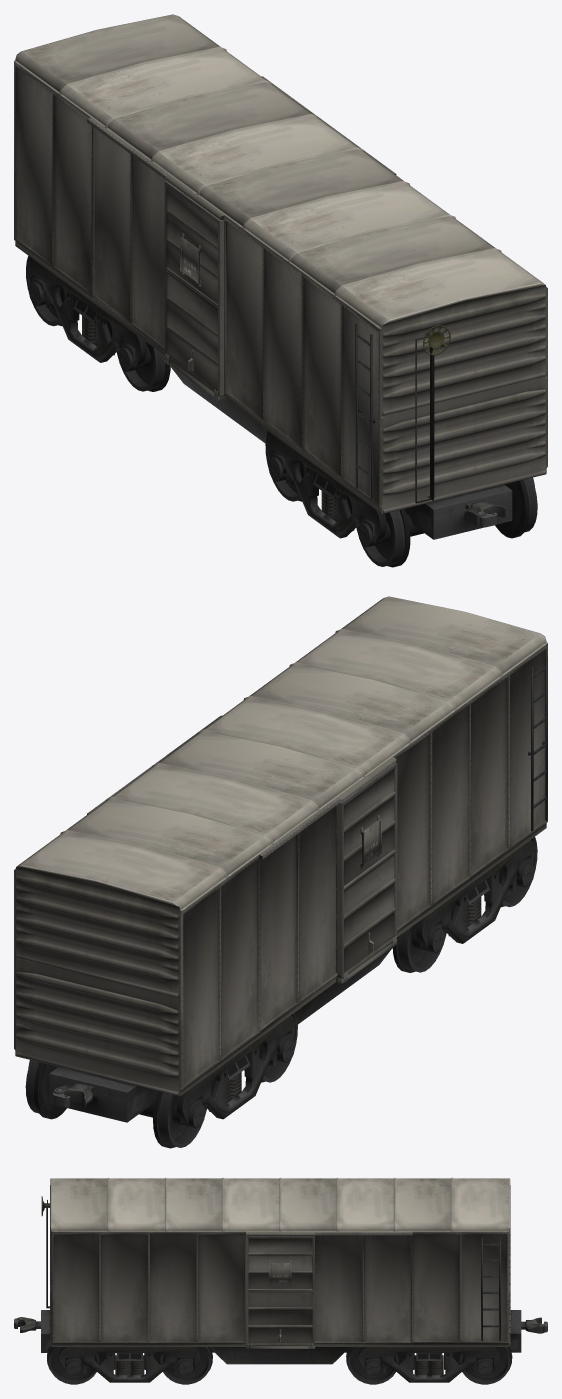
3 renders of one model, top to bottom at view 1: azimuth 30°, elevation 25°; view 2: azimuth 150°, elevation 25°; view 3: azimuth 270°, elevation 25°, orthographic. The views are drawn at different scales.
Parts seen in each view (by area): view 1: Object_train_box.jpg.001; view 2: Object_train_box.jpg.001; view 3: Object_train_box.jpg.001.
Part boxes in pixels (bbox=[...]): Object_train_box.jpg.001: bbox=[14, 14, 547, 567]; Object_train_box.jpg.001: bbox=[14, 596, 547, 1148]; Object_train_box.jpg.001: bbox=[14, 1177, 547, 1384].
Size of the model in its own units: 3 by 4.11 by 11.98.
2 materials, 2 textured.
